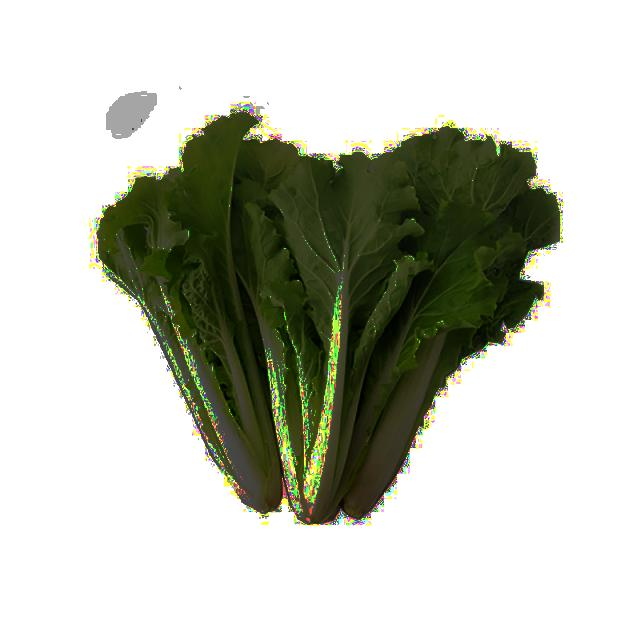chinese_cabbage: (122, 112, 546, 526)
